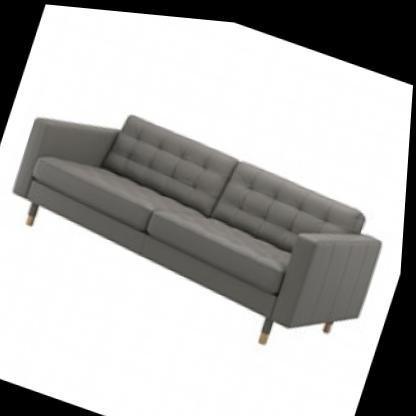Sofa: (0, 54, 413, 382)
